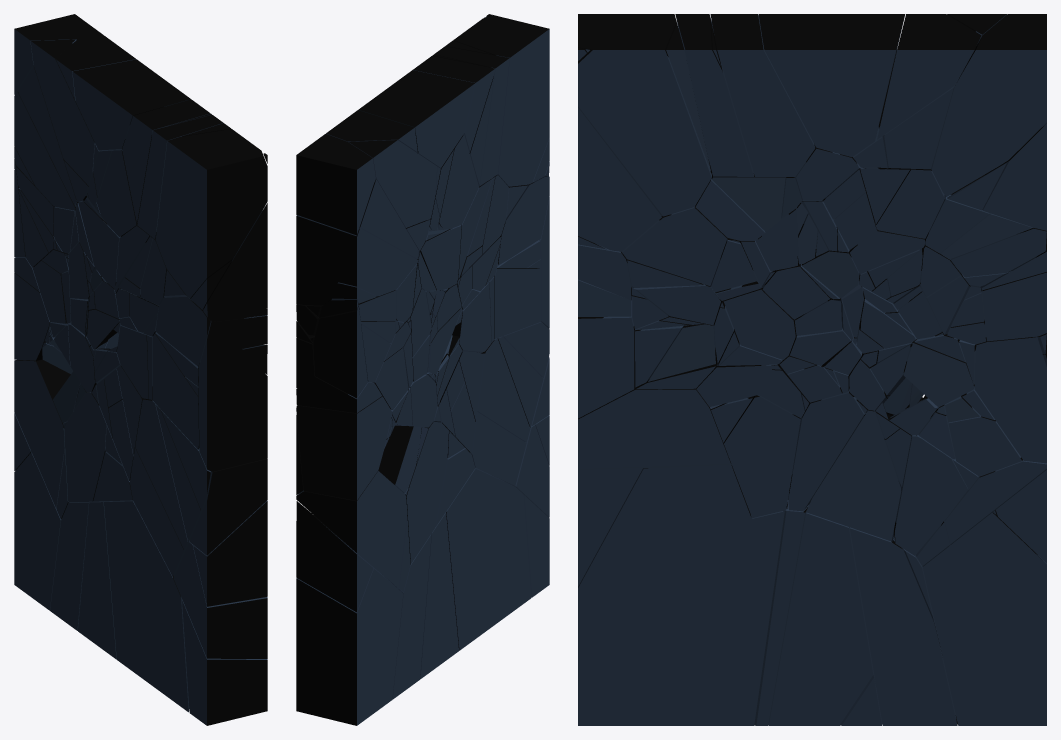
Rendered from ShatterGate.fbx.
3 renders of one model, left to right at view 1: azimuth 30°, elevation 25°; view 2: azimuth 150°, elevation 25°; view 3: azimuth 270°, elevation 25°, orthographic. The views are drawn at different scales.
Parts seen in each view (by area): view 1: ShatterGate; view 2: ShatterGate; view 3: ShatterGate.
Boxes of the visible parts, <box> form: ShatterGate: <box>14,14,267,725</box>; ShatterGate: <box>296,14,549,725</box>; ShatterGate: <box>578,14,1046,725</box>.
Bounding box in the file's own units: 134 × 1173 × 737.
